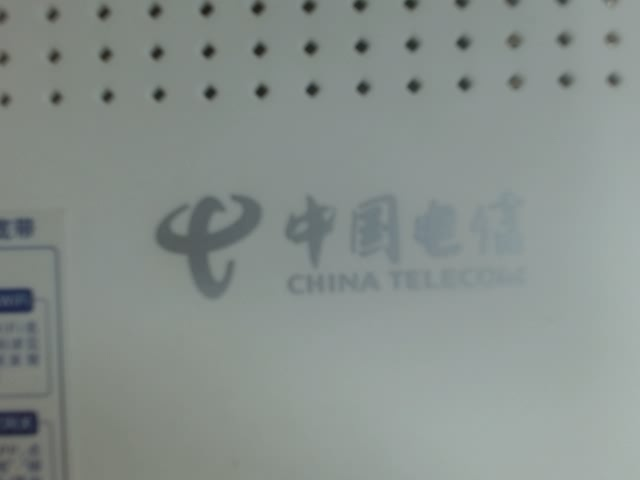AB_ChinaTelecom: (155, 168, 544, 313)
